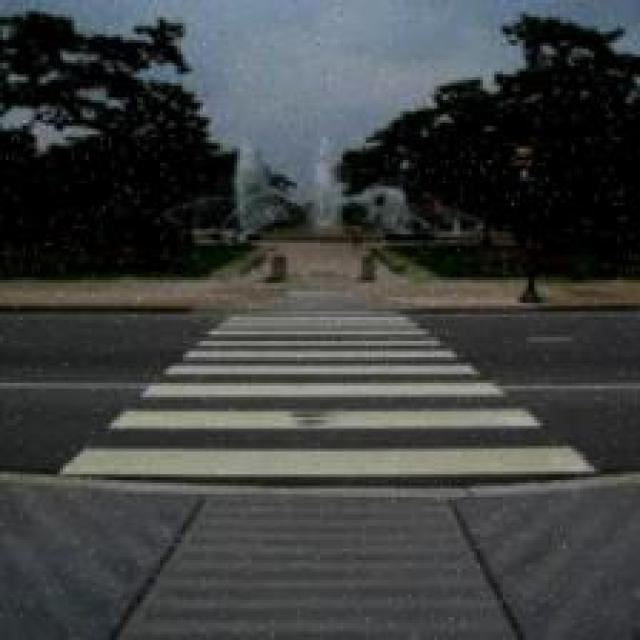crosswalk: (54, 308, 597, 479)
